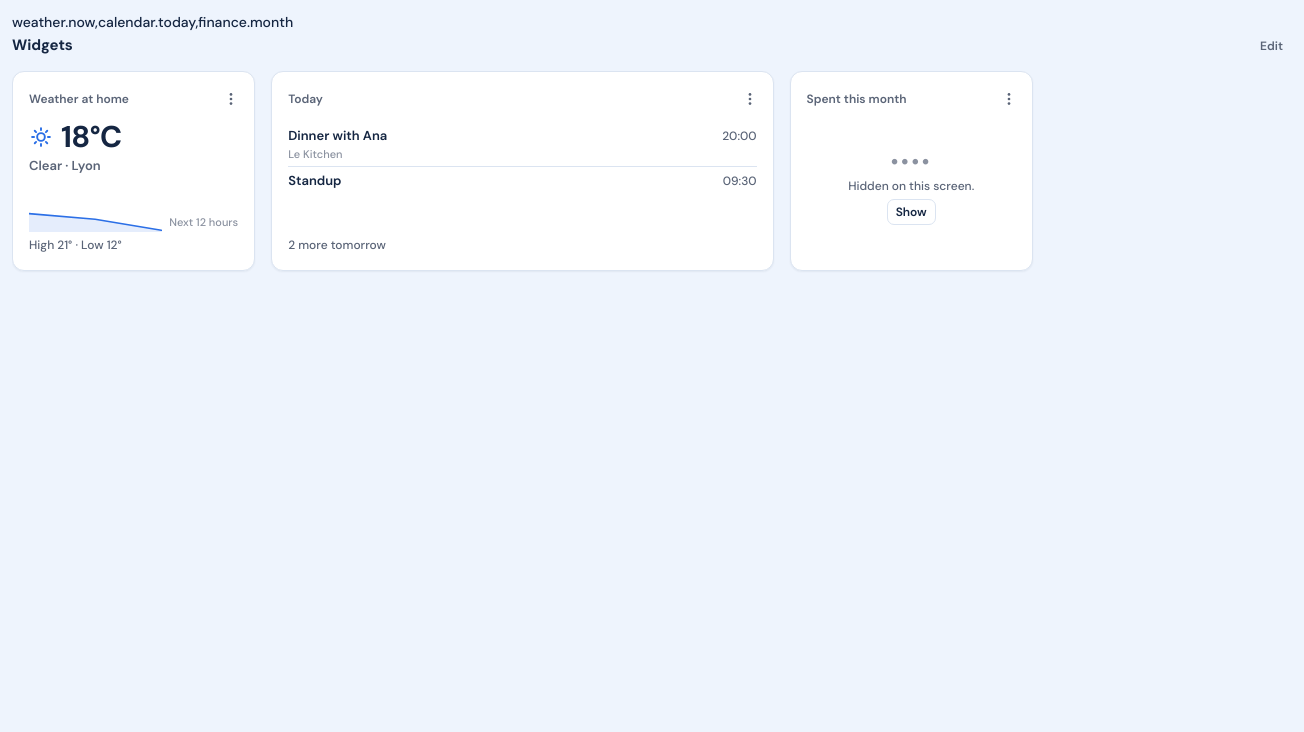
Scenario: edit mode › takes one off, resizes, moves with the buttons, adds from the gallery, and saves on Done
The image size is (1304, 732).
expect the element "Today" is shown: met, box [271,71,774,271]
Click the button "Edit": (1272,46) [1251,33,1292,59]
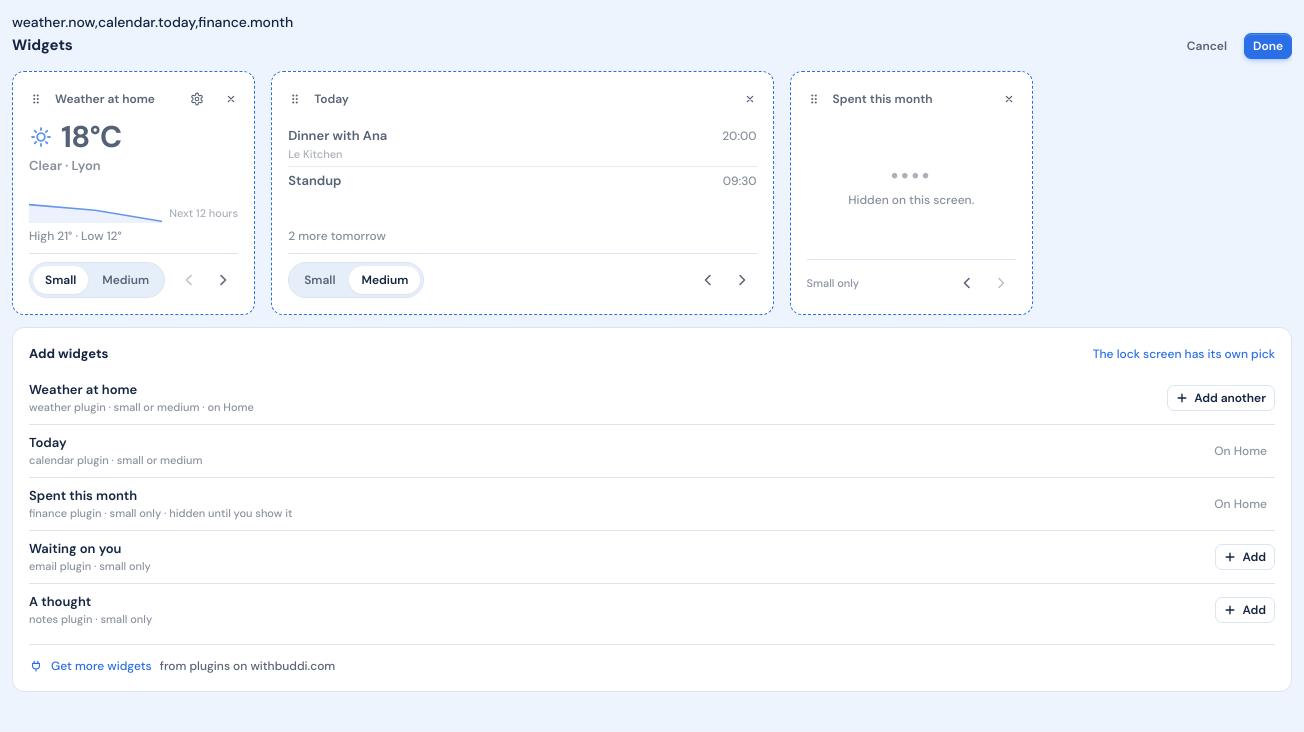
Click the button named "Take Spent this month off Home": (1009,99) [994,84,1024,114]
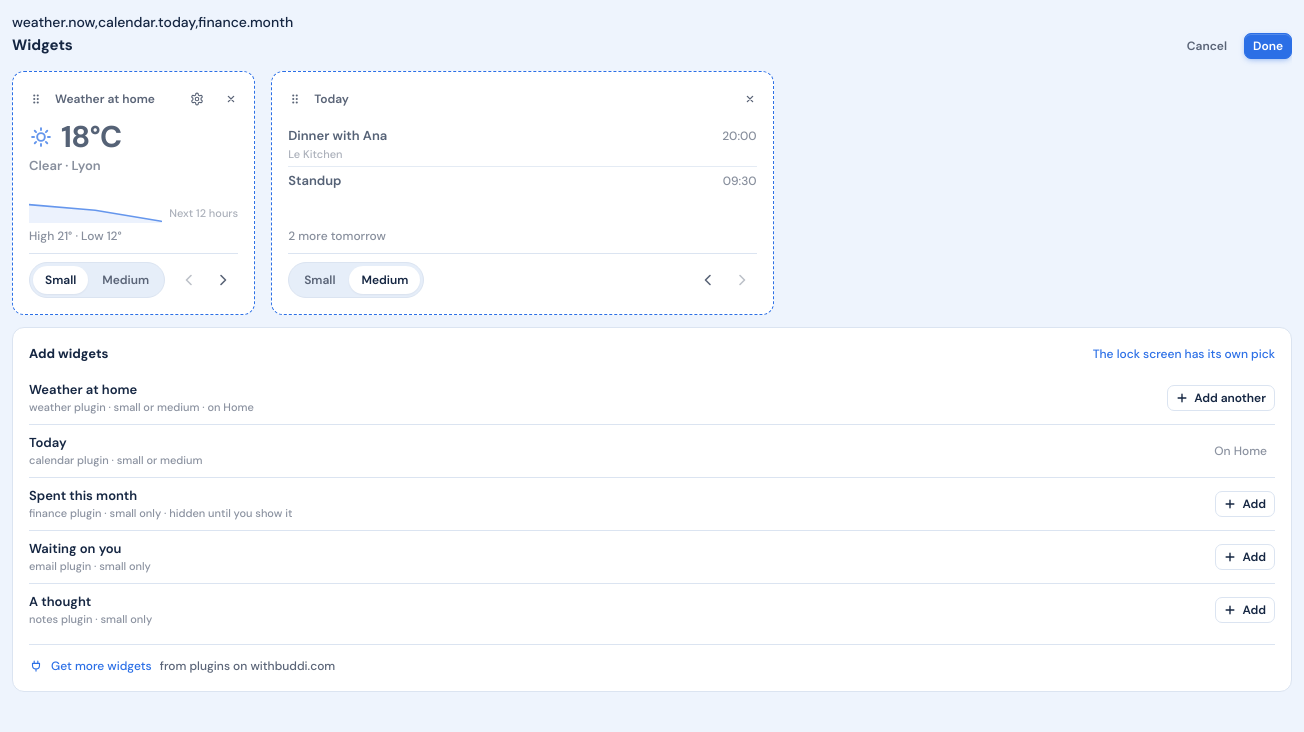
Click the radio button labelled "Small" below "2 more tomorrow": (320,280) [292,266,348,294]
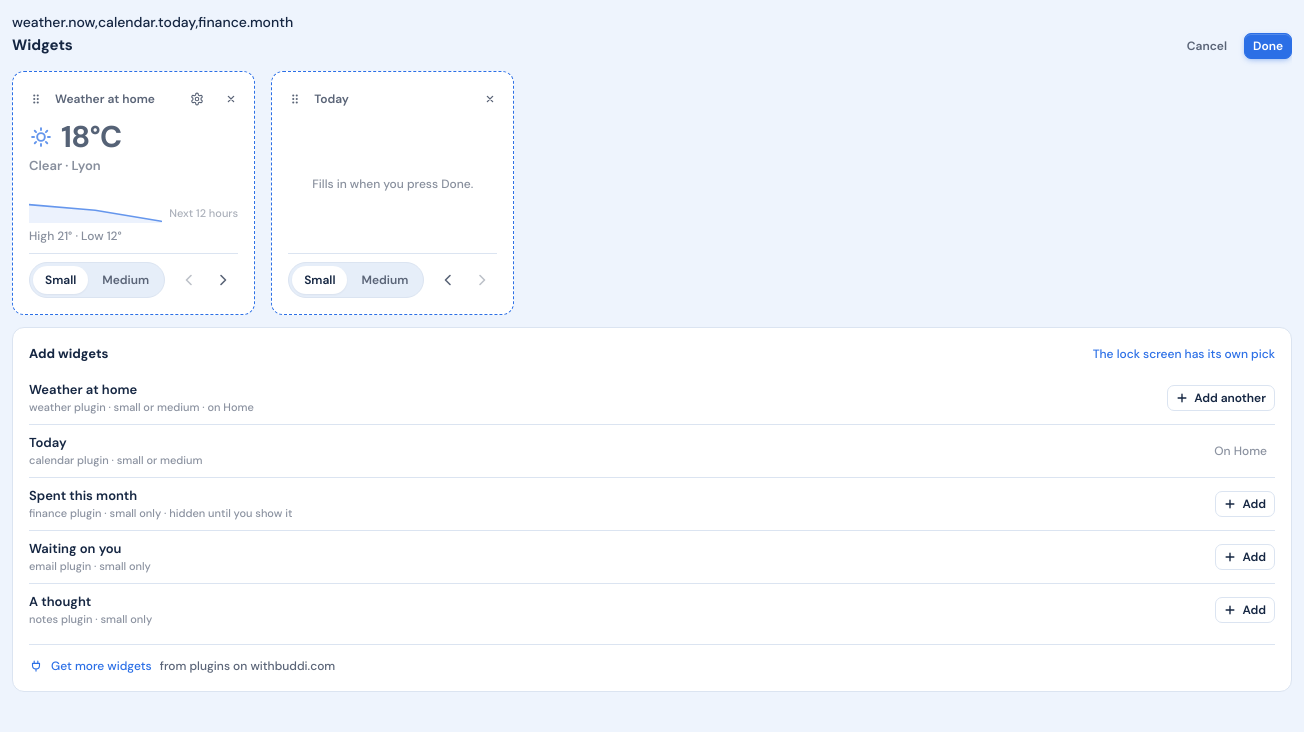
Click the button named "Move Today earlier": (448,280) [433,265,463,295]
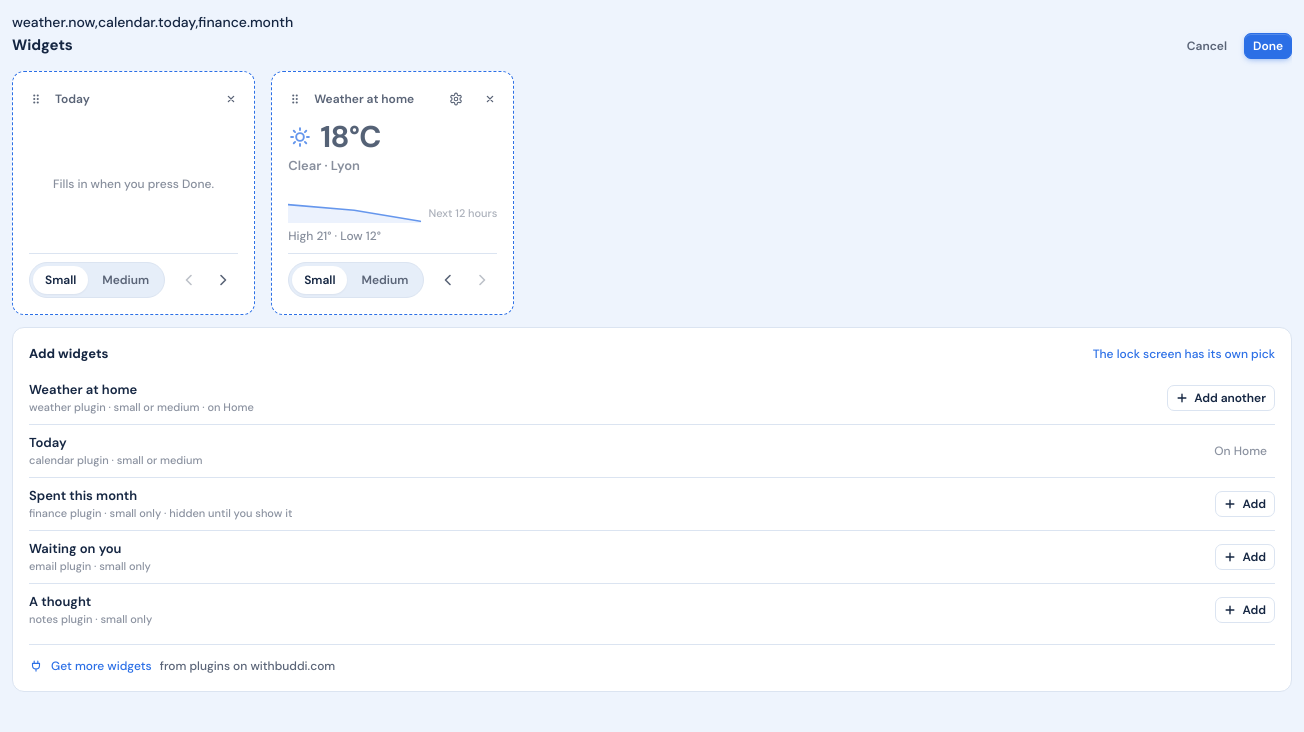
expect the button named "Move Today earlier" is disabled: met, box [174,265,204,295]
Click the button with aria-label "Add Waiting on you": (1245,556) [1215,544,1275,570]
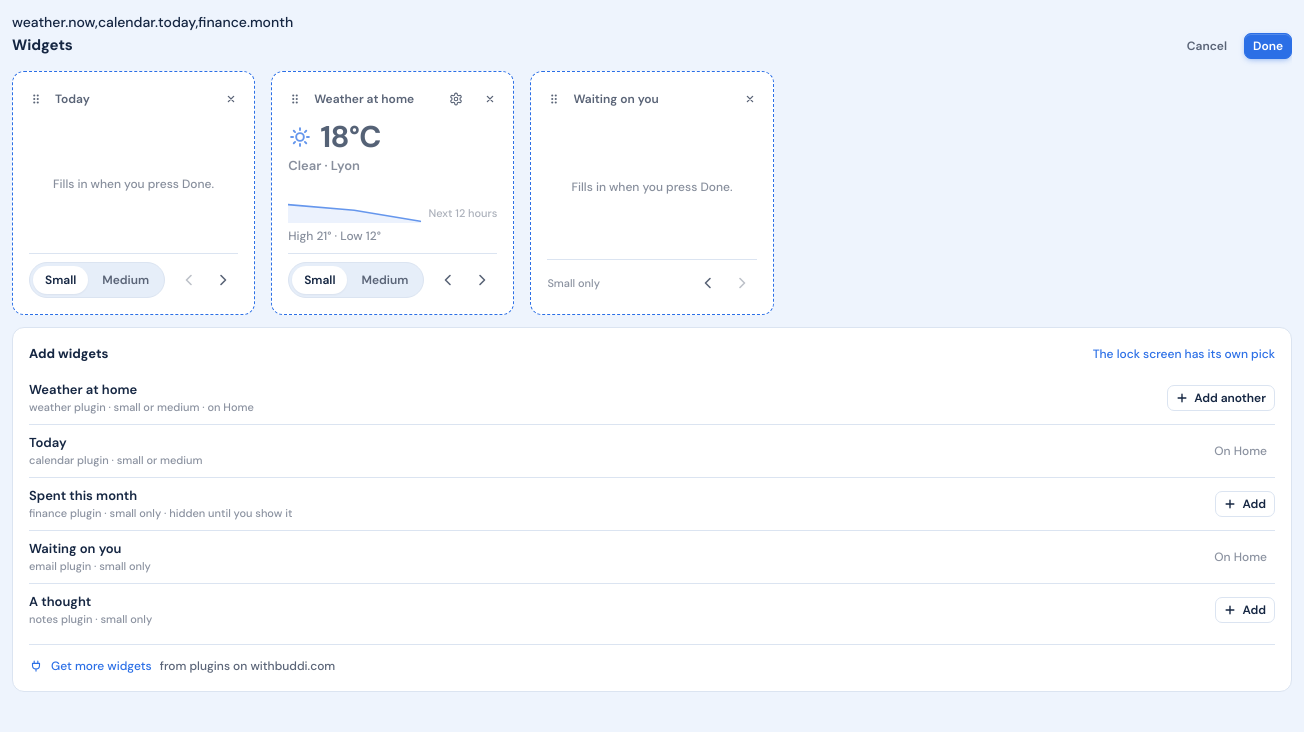
expect the element "Waiting on you" shows "Fills in when you press Done.": met, box [572,178,732,194]
Click the button "Done": (1268,46) [1244,33,1292,59]
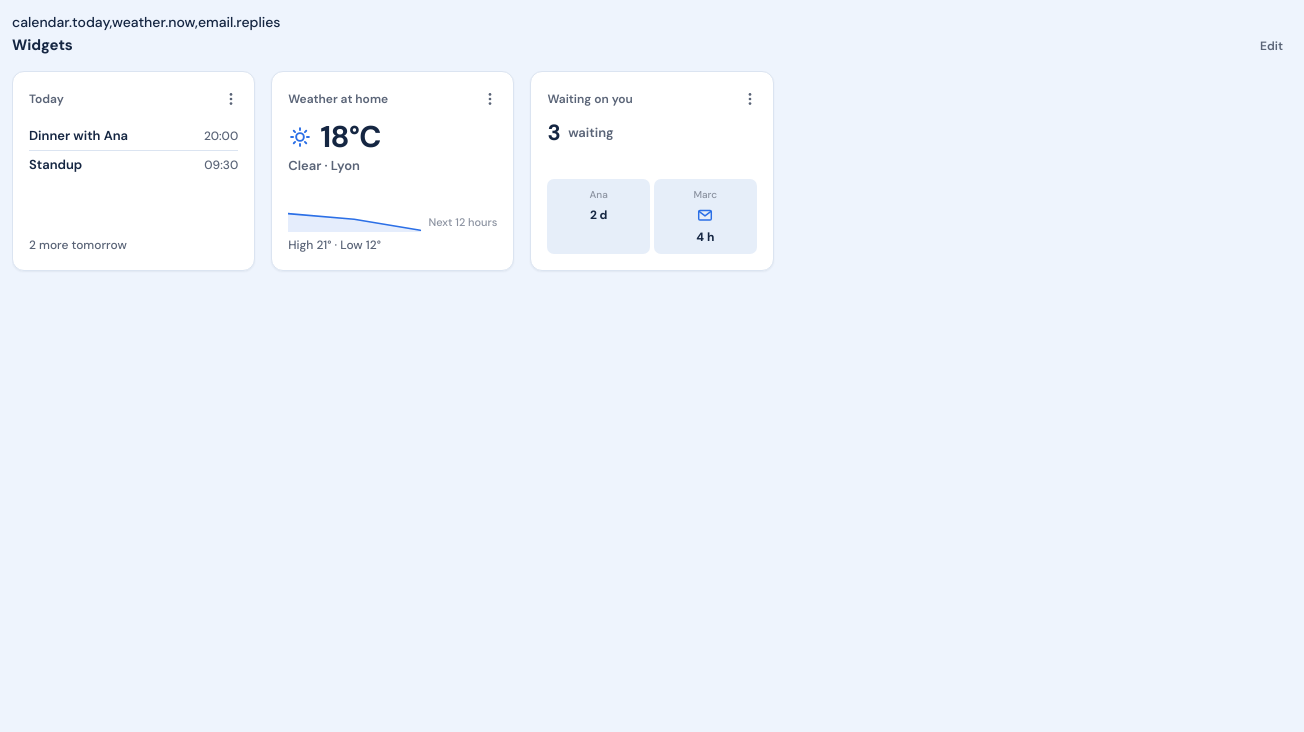
expect the button "Edit" is shown: met, box [1251,33,1292,59]
expect the text "Add widgets" is gone: met
